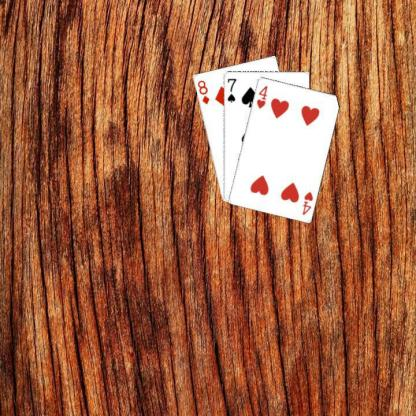4H: (254, 83, 268, 110), (300, 189, 314, 216)
7S: (225, 76, 237, 103)
8D: (195, 77, 210, 106)
